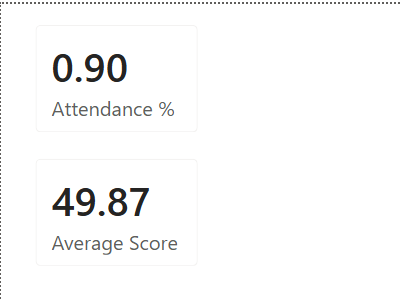

Layout of this report page (visuals, bound fields, positions):
{"tool":"powerbi","page":{"name":"Tooltip","canvas":[320,240],"ordinal":2},"visuals":[{"type":"cardVisual","fields":{"Data":["New Measure.Attendance %"]},"box":[10,0,164,120],"z":0},{"type":"cardVisual","fields":{"Data":["New Measure.Average Score"]},"box":[10,107,164,120],"z":1000}]}

Visuals, with their boxes in screenshot pixels (x1, y1, x2, y2), scaled from the page's 320x240 canvas onto the 401x301 screenshot:
cardVisual - New Measure.Attendance %: 13/0/218/150
cardVisual - New Measure.Average Score: 13/134/218/285
